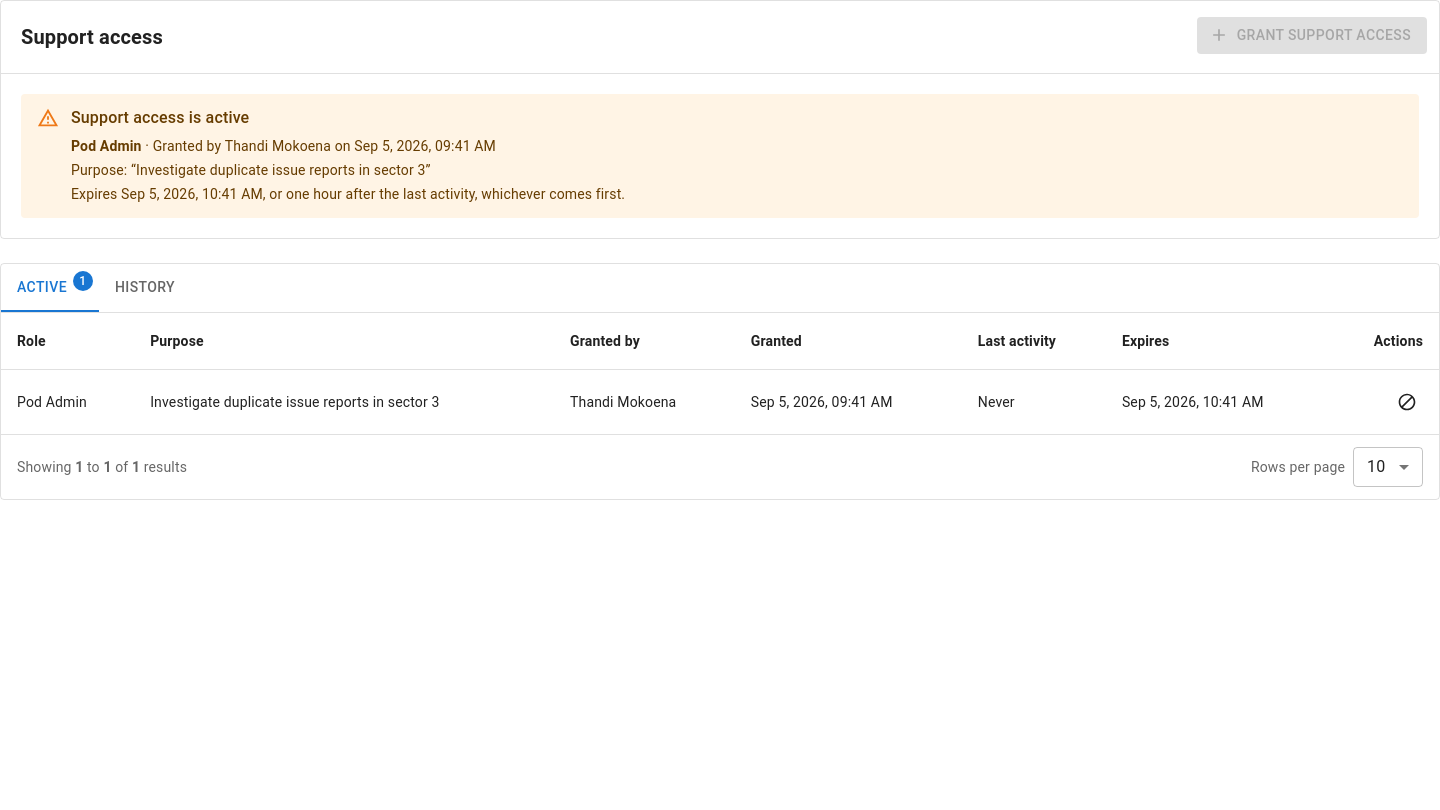
Test: SupportAccessSection › should open the confirmation dialog before revoking
Click the button named "revoke" at (1407,402), box [1391,386,1423,418]
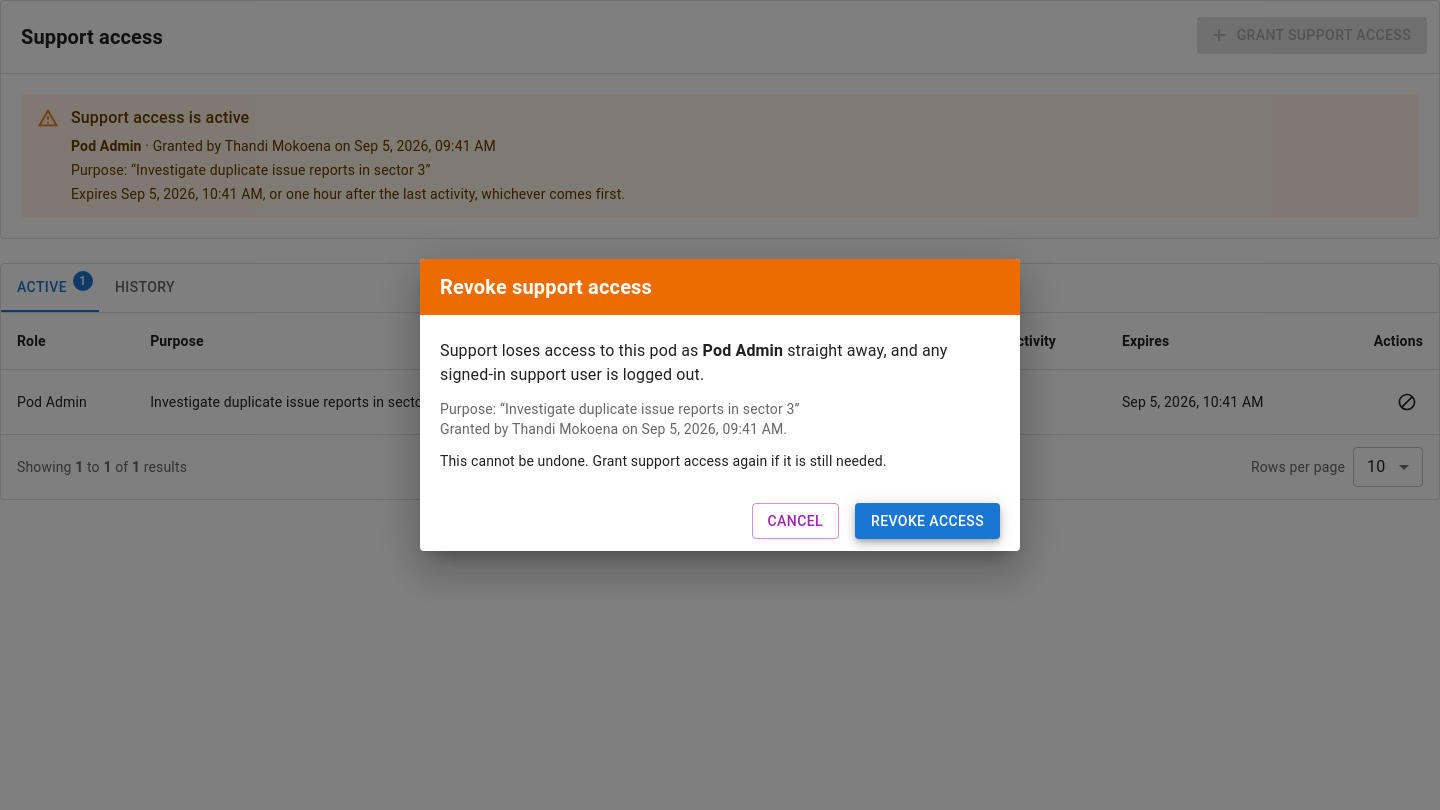
Expected: the text "Revoke support access" is shown, [440,275,652,299]
